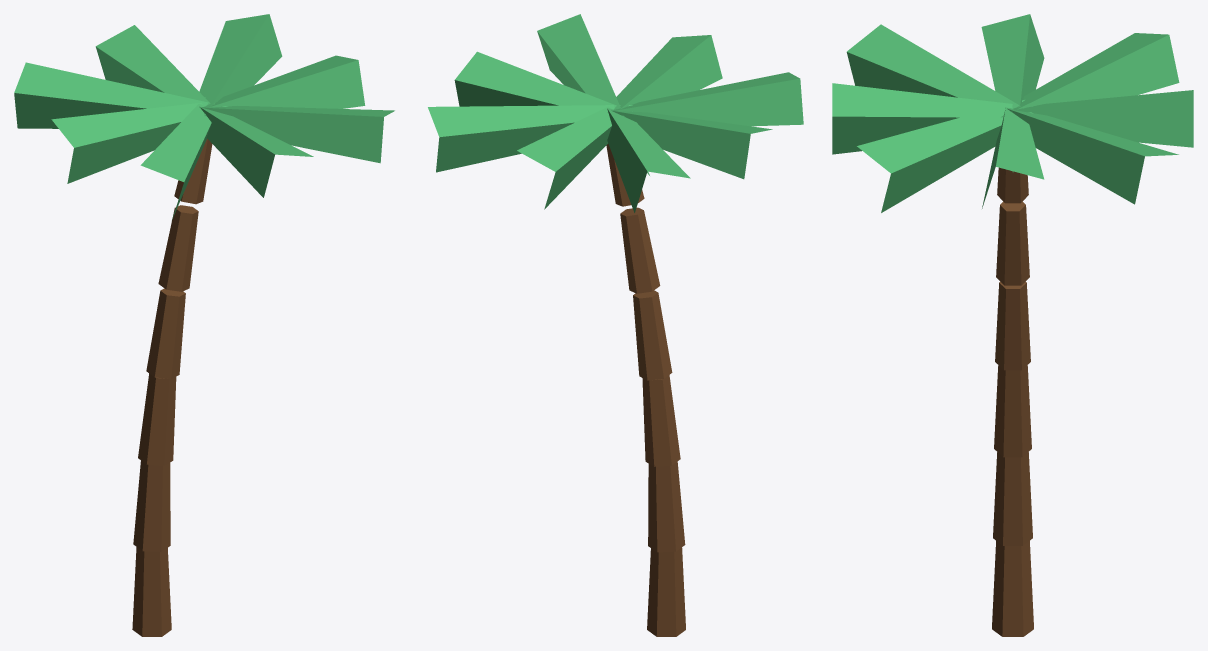
File: palm.glb
The picture shows the model from 3 angles, left to right: view 1: azimuth 30°, elevation 25°; view 2: azimuth 150°, elevation 25°; view 3: azimuth 270°, elevation 25°; orthographic projection. The views are drawn at different scales.
Parts seen in each view (by area): view 1: tree-palm; view 2: tree-palm; view 3: tree-palm.
Part boxes in pixels (x1,y1,x2,y2): tree-palm: (14,14,394,636); tree-palm: (428,14,803,636); tree-palm: (832,14,1193,636).
Bounding box in the file's own units: 1.11 × 1.92 × 1.11.
